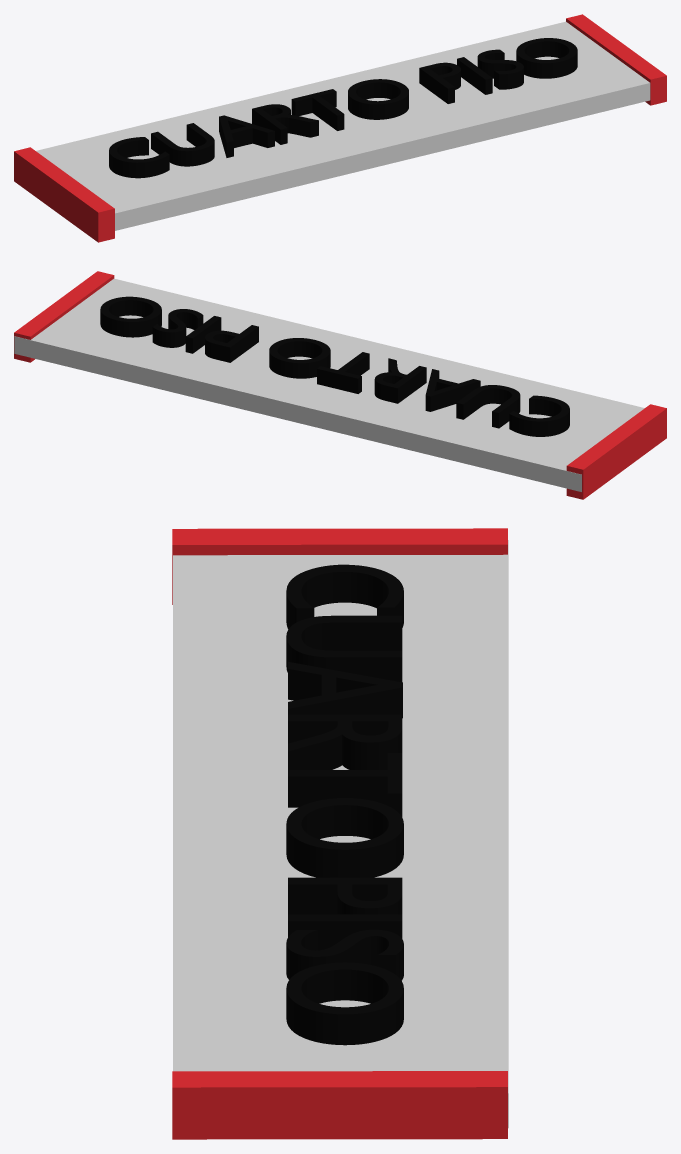
The model's file is CuartoPiso.fbx.
The picture shows the model from 3 angles, top to bottom: view 1: azimuth 30°, elevation 25°; view 2: azimuth 150°, elevation 25°; view 3: azimuth 270°, elevation 25°; orthographic projection. The views are drawn at different scales.
Visible parts, largest first — view 1: Cube, Texto.001, Cubo, Cubo.001; view 2: Cube, Texto.001, Cubo, Cubo.001; view 3: Cube, Texto.001, Cubo.001, Cubo.
Boxes of the visible parts, x1,y1,x2,y2 form: Cube: [36, 21, 650, 230]; Texto.001: [109, 38, 577, 178]; Cubo: [14, 147, 114, 242]; Cubo.001: [566, 14, 666, 105]; Cube: [14, 278, 644, 491]; Texto.001: [100, 296, 569, 436]; Cubo: [566, 404, 666, 499]; Cubo.001: [14, 271, 114, 362]; Cube: [173, 540, 508, 1128]; Texto.001: [286, 564, 403, 1045]; Cubo.001: [172, 1071, 507, 1139]; Cubo: [172, 528, 507, 604].
Bounding box in the file's own units: 783 × 52.97 × 200.
